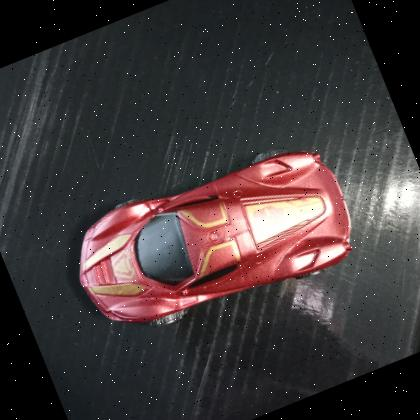Car: (50, 114, 374, 364)
